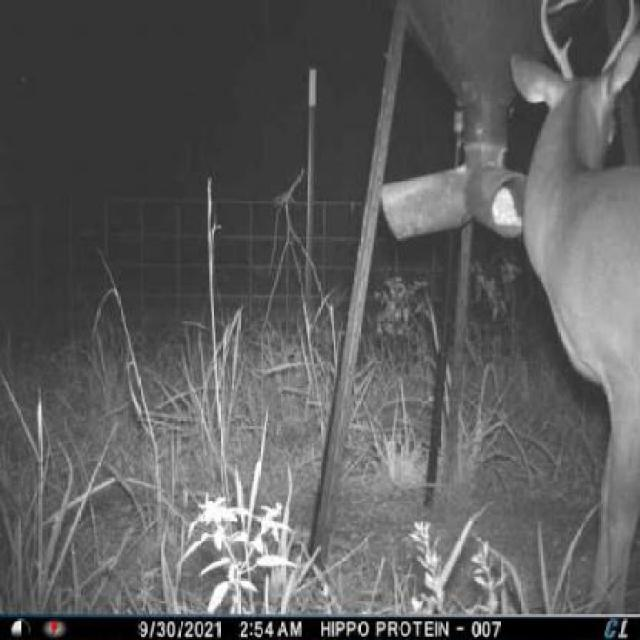Deer: (506, 0, 639, 617)
